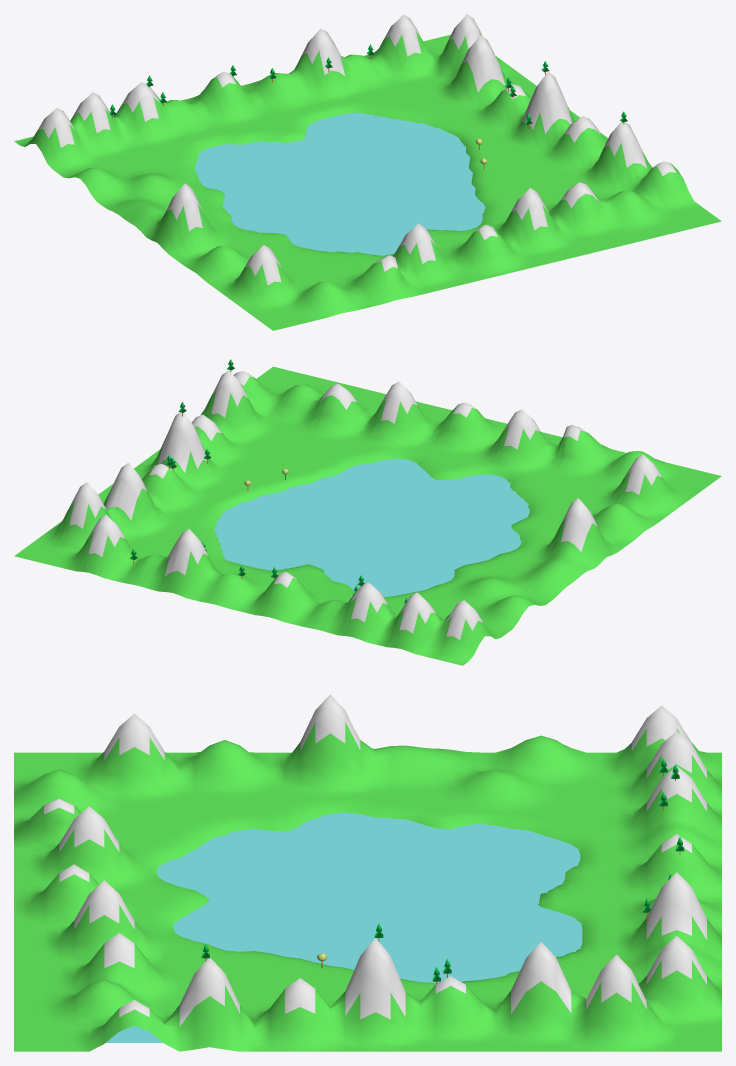
The model's file is lake.glb.
3 renders of one model, top to bottom at view 1: azimuth 30°, elevation 25°; view 2: azimuth 150°, elevation 25°; view 3: azimuth 270°, elevation 25°, orthographic. The views are drawn at different scales.
Visible parts, largest first — view 1: Plane; view 2: Plane; view 3: Plane.
Part boxes in pixels (x1,y1,x2,y2): Plane: (14, 14, 721, 330); Plane: (14, 366, 721, 665); Plane: (14, 694, 721, 1051).
Size of the model in its own units: 143 by 45.16 by 143.
